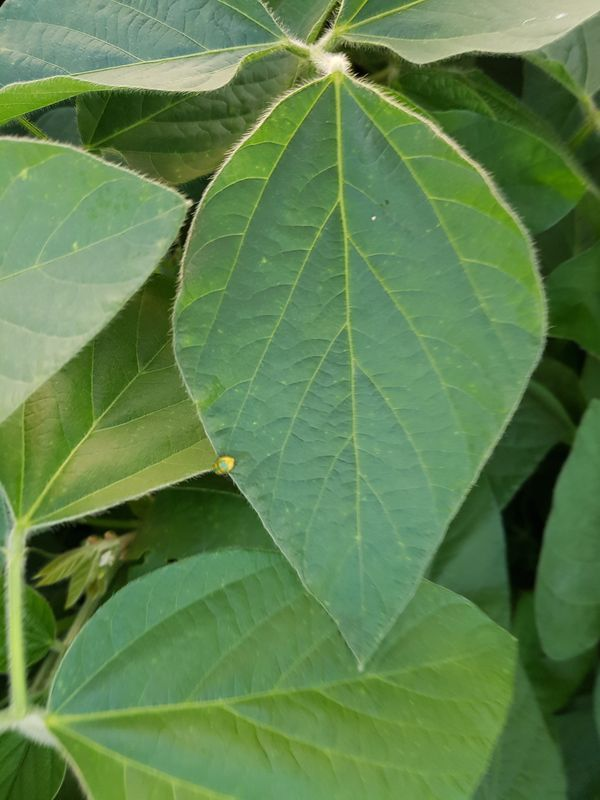Diabrotica_speciosa: (207, 453, 242, 481)
